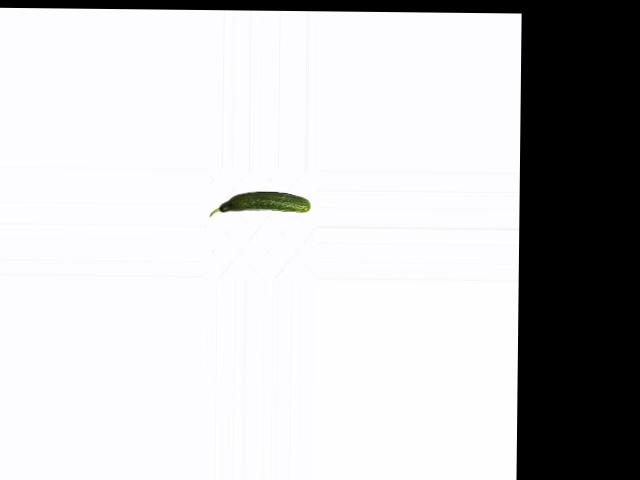cucumber: (208, 191, 309, 217)
